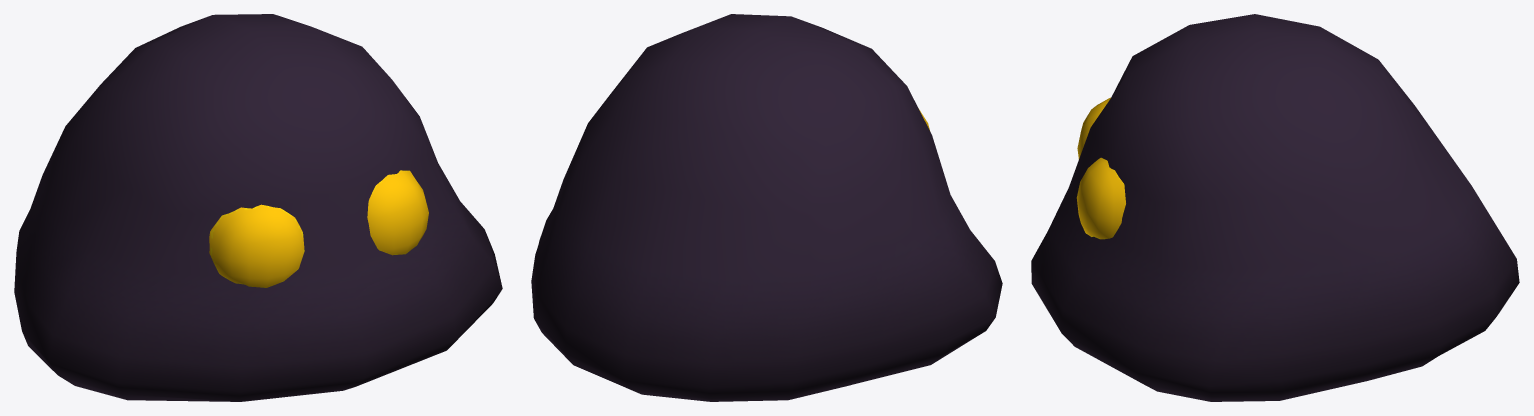
Rendered from SM_lilShadowGuy.fbx.
The picture shows the model from 3 angles, left to right: view 1: azimuth 30°, elevation 25°; view 2: azimuth 150°, elevation 25°; view 3: azimuth 270°, elevation 25°; orthographic projection. The views are drawn at different scales.
Parts seen in each view (by area): view 1: SM_lilShadowGuy; view 2: SM_lilShadowGuy; view 3: SM_lilShadowGuy.
Boxes of the visible parts, x1,y1,x2,y2 form: SM_lilShadowGuy: (14,14,502,401); SM_lilShadowGuy: (531,14,1002,401); SM_lilShadowGuy: (1031,14,1519,401).
Size of the model in its own units: 0.8415 by 0.5262 by 0.8322.
2 materials, 2 textured.
